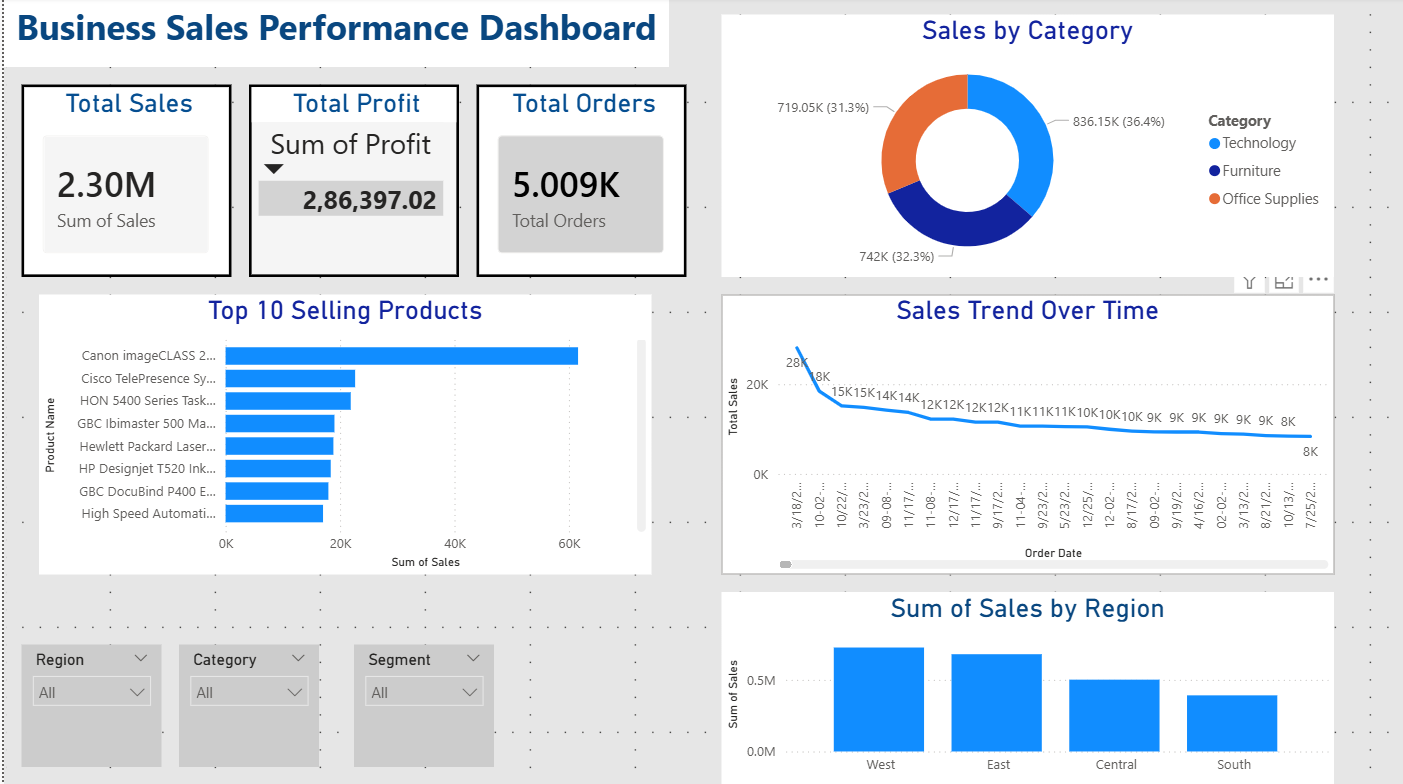

The dashboard page shown, as its layout file describes it:
{"tool":"powerbi","page":{"name":"Page 1","canvas":[1280,720],"ordinal":0},"visuals":[{"type":"cardVisual","title":"     Total Sales","fields":{"Data":["Sum(Sample - Superstore (3).Sales)"]},"box":[16,80,192,176],"z":0},{"type":"tableEx","title":"Total Profit","fields":{"Values":["Sum(Sample - Superstore (3).Profit)"]},"box":[224,80,192,176],"z":1000},{"type":"cardVisual","title":"Total Orders","fields":{"Data":["Sample - Superstore (3).Total Orders"]},"box":[432,80,192,176],"z":2000},{"type":"clusteredBarChart","title":"Top 10 Selling Products","fields":{"Y":["Sum(Sample - Superstore (3).Sales)"],"Category":["Sample - Superstore (3).Product Name"]},"box":[32,272,560,256],"z":3000},{"type":"lineChart","title":"Sales Trend Over Time","fields":{"Category":["Sample - Superstore (3).Order Date"],"Y":["Sample - Superstore (3).Total Sales"]},"box":[656,272,560,256],"z":4000},{"type":"donutChart","title":"Sales by Category","fields":{"Category":["Sample - Superstore (3).Category"],"Y":["Sample - Superstore (3).Total Sales"]},"box":[656,16,560,240],"z":5000},{"type":"slicer","fields":{"Values":["Sample - Superstore (3).Region"]},"box":[16,592,128,112],"z":6000},{"type":"slicer","title":"Region Filter","fields":{"Values":["Sample - Superstore (3).Category"]},"box":[160,592,128,112],"z":7000},{"type":"slicer","fields":{"Values":["Sample - Superstore (3).Segment"]},"box":[320,592,128,112],"z":8000},{"type":"textbox","box":[0,0,608,64],"z":9000},{"type":"clusteredColumnChart","fields":{"Category":["Sample - Superstore (3).Region"],"Y":["Sum(Sample - Superstore (3).Sales)"]},"box":[656,544,560,176],"z":9001}]}

Visuals, with their boxes in screenshot pixels (x1, y1, x2, y2), scaled from the page's 1280x720 canvas onto the 1403x784 screenshot:
"     Total Sales" cardVisual: [18,87,228,279]
"Total Profit" tableEx: [246,87,456,279]
"Total Orders" cardVisual: [474,87,684,279]
"Top 10 Selling Products" clusteredBarChart: [35,296,649,575]
"Sales Trend Over Time" lineChart: [719,296,1333,575]
"Sales by Category" donutChart: [719,17,1333,279]
slicer - Sample - Superstore (3).Region: [18,645,158,767]
"Region Filter" slicer: [175,645,316,767]
slicer - Sample - Superstore (3).Segment: [351,645,491,767]
textbox: [0,0,666,70]
clusteredColumnChart - Sample - Superstore (3).Region x Sum(Sample - Superstore (3).Sales): [719,592,1333,783]
